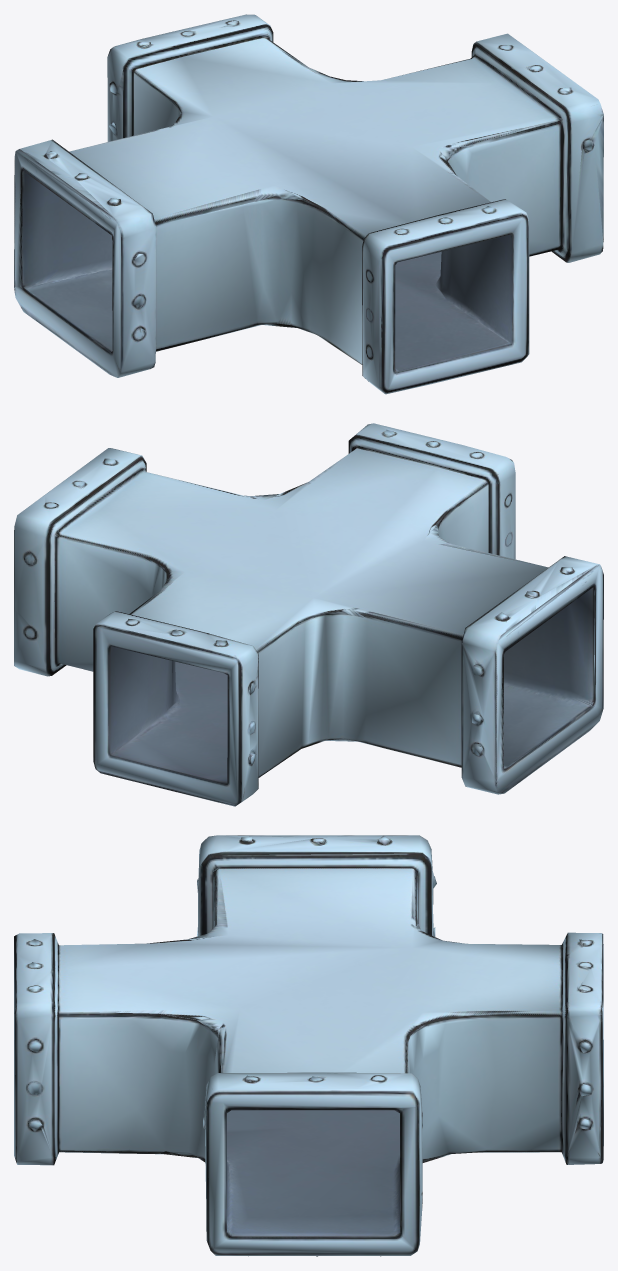
Rendered from tripo_convert_7d2581ba-965b-427e-b2a6-0cddd7ea0a4e.fbx.
3 views of the same model, one above another, from view 1: azimuth 30°, elevation 25°; view 2: azimuth 150°, elevation 25°; view 3: azimuth 270°, elevation 25° (orthographic). The views are drawn at different scales.
Visible parts, largest first — view 1: tripo_node_7d2581ba; view 2: tripo_node_7d2581ba; view 3: tripo_node_7d2581ba.
Part boxes in pixels (<box>): tripo_node_7d2581ba: <box>14,14,603,394</box>; tripo_node_7d2581ba: <box>14,423,603,806</box>; tripo_node_7d2581ba: <box>14,835,603,1256</box>.
Bounding box in the file's own units: 1 × 0.3365 × 0.9767.
1 material, 1 textured.
